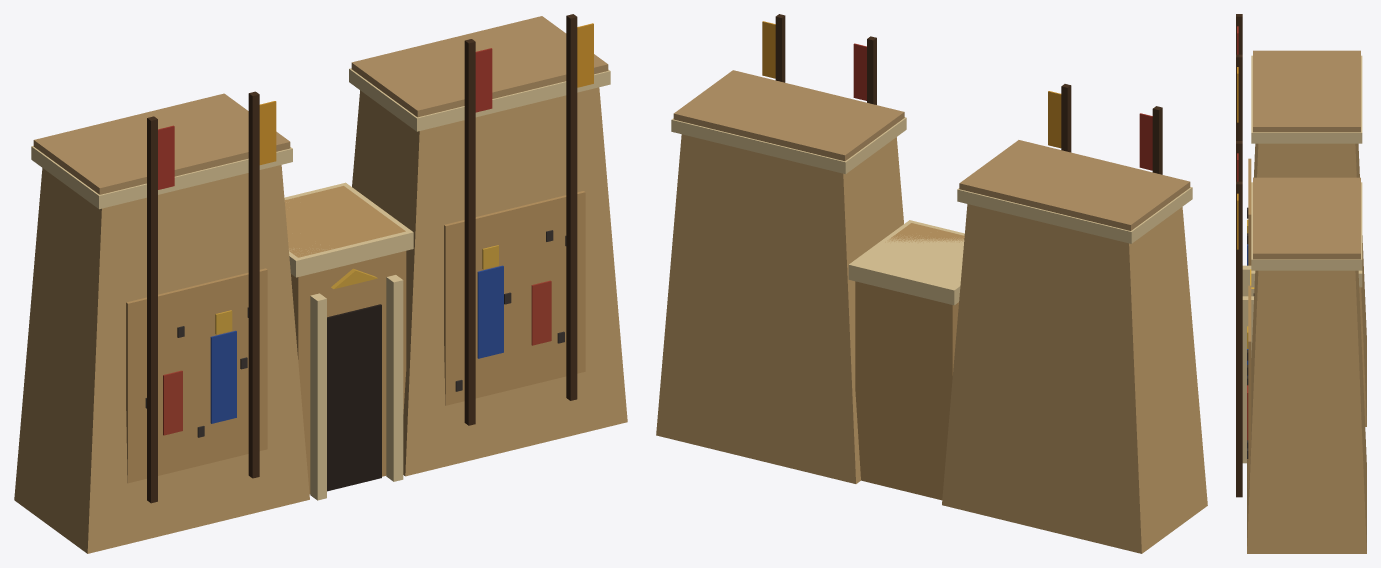
File: desert_pylon.glb
3 renders of one model, left to right at view 1: azimuth 30°, elevation 25°; view 2: azimuth 150°, elevation 25°; view 3: azimuth 270°, elevation 25°, orthographic. The views are drawn at different scales.
Visible parts, largest first — view 1: desert_pylon; view 2: desert_pylon; view 3: desert_pylon.
Part boxes in pixels (x1,y1,x2,y2): desert_pylon: [14, 14, 627, 553]; desert_pylon: [656, 14, 1207, 553]; desert_pylon: [1236, 14, 1366, 553].
Size of the model in its own units: 17 by 12.75 by 4.36.
